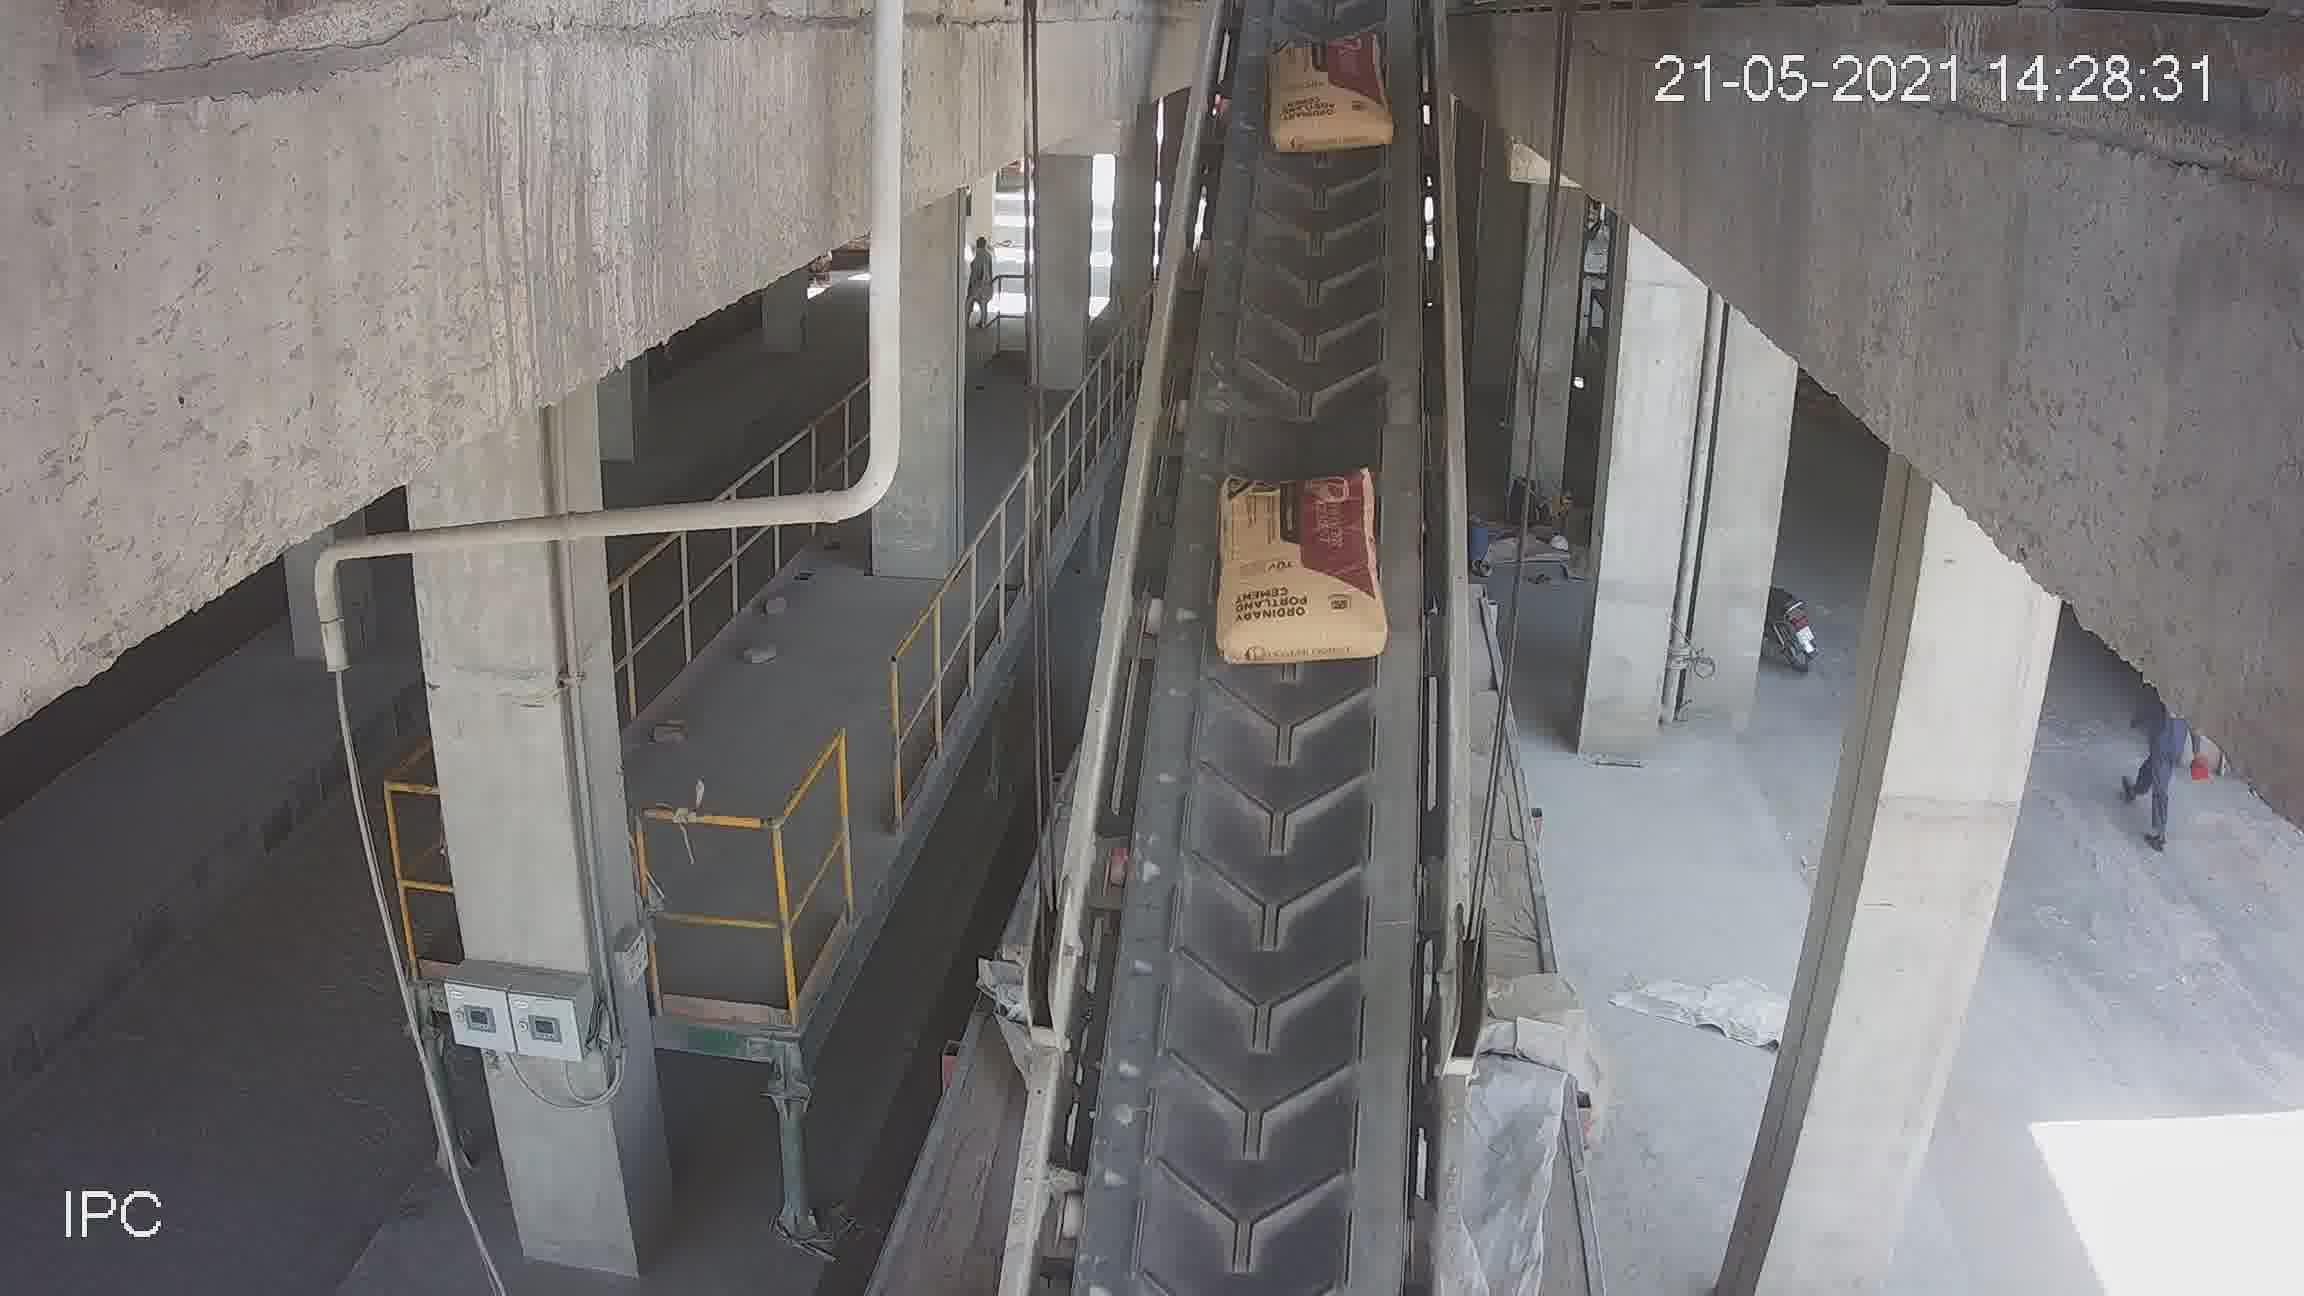bag: (1217, 472, 1385, 671), (1277, 40, 1381, 146)
belt: (1041, 25, 1464, 1252)
